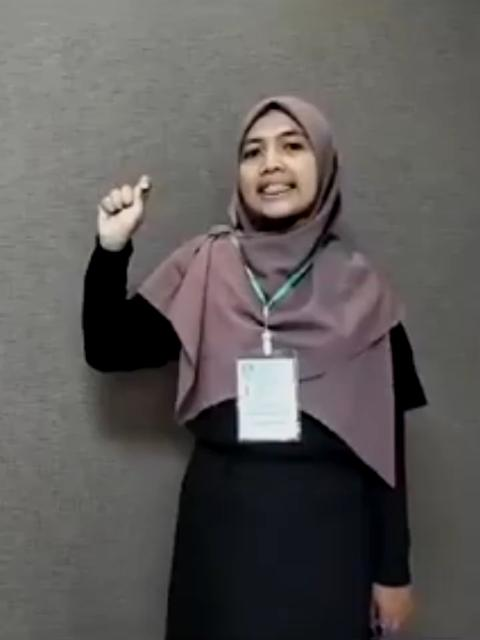T: (93, 175, 153, 243)
